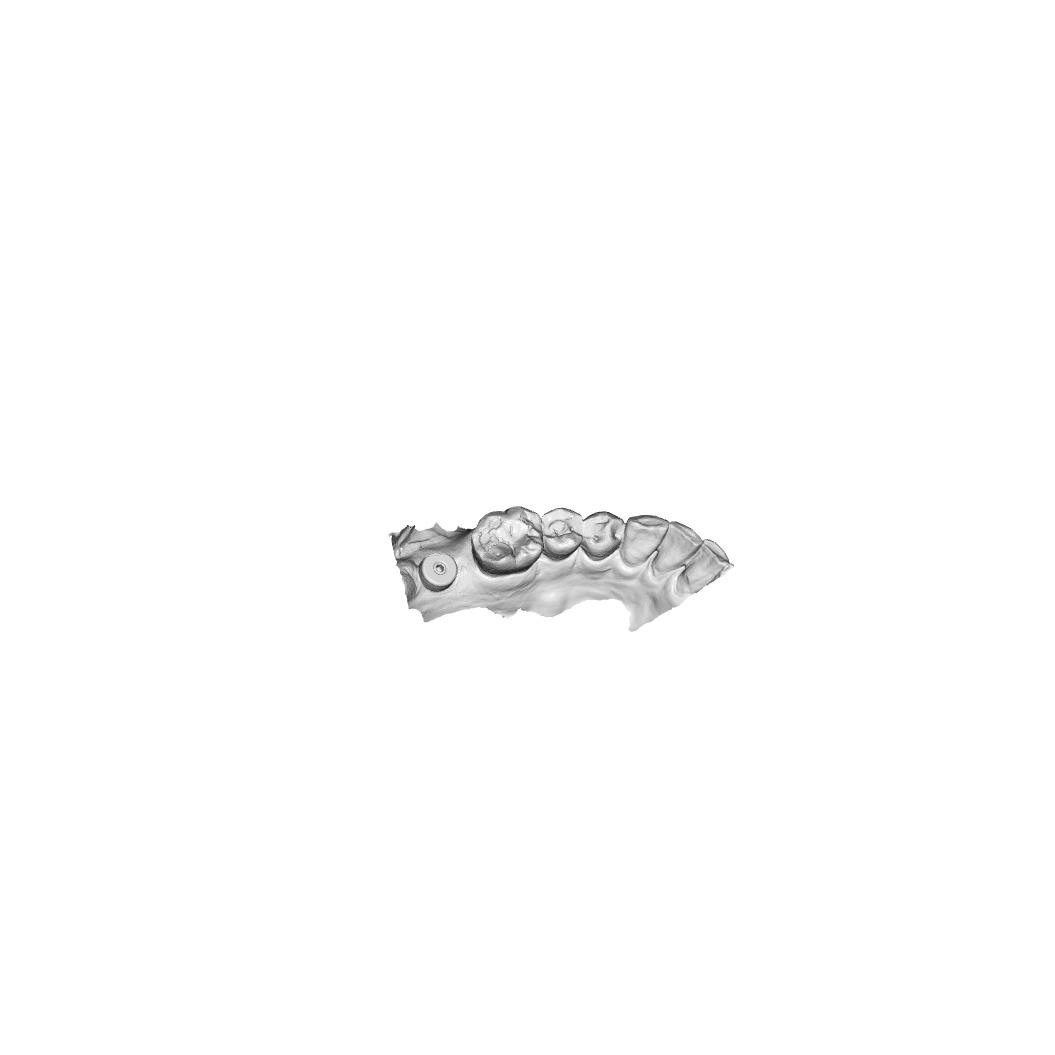canine: (620, 513, 670, 568)
implant: (418, 551, 459, 594)
incisor: (677, 537, 731, 593), (652, 520, 704, 575)
molar: (469, 505, 544, 578)
premolar: (541, 506, 586, 562), (582, 510, 625, 562)
